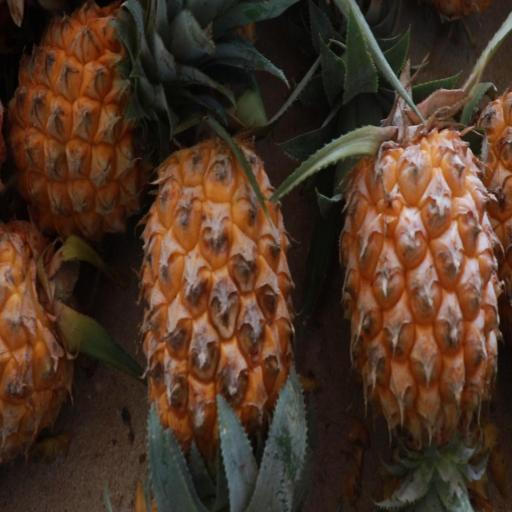Pineapple - v8 v1: (133, 121, 301, 511), (337, 102, 505, 472), (2, 0, 183, 251), (0, 193, 83, 471)
